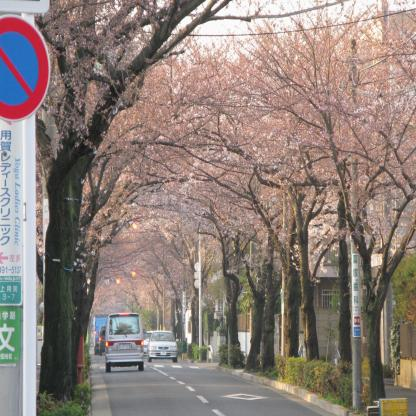Someiyoshino: (52, 0, 414, 314)
